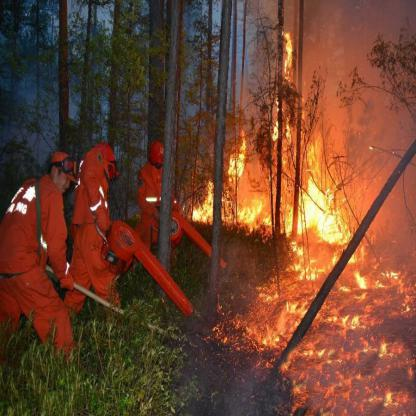fire: (191, 33, 413, 409)
